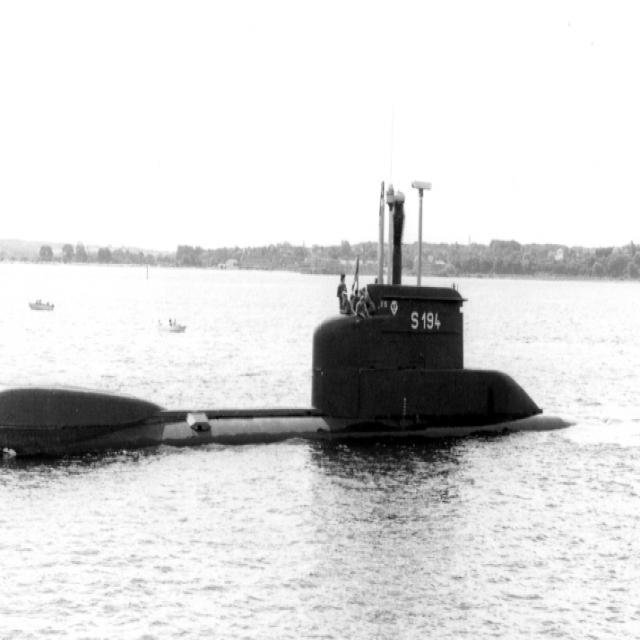submarine: (1, 146, 602, 453)
